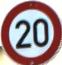20 km speed: (1, 1, 62, 64)
